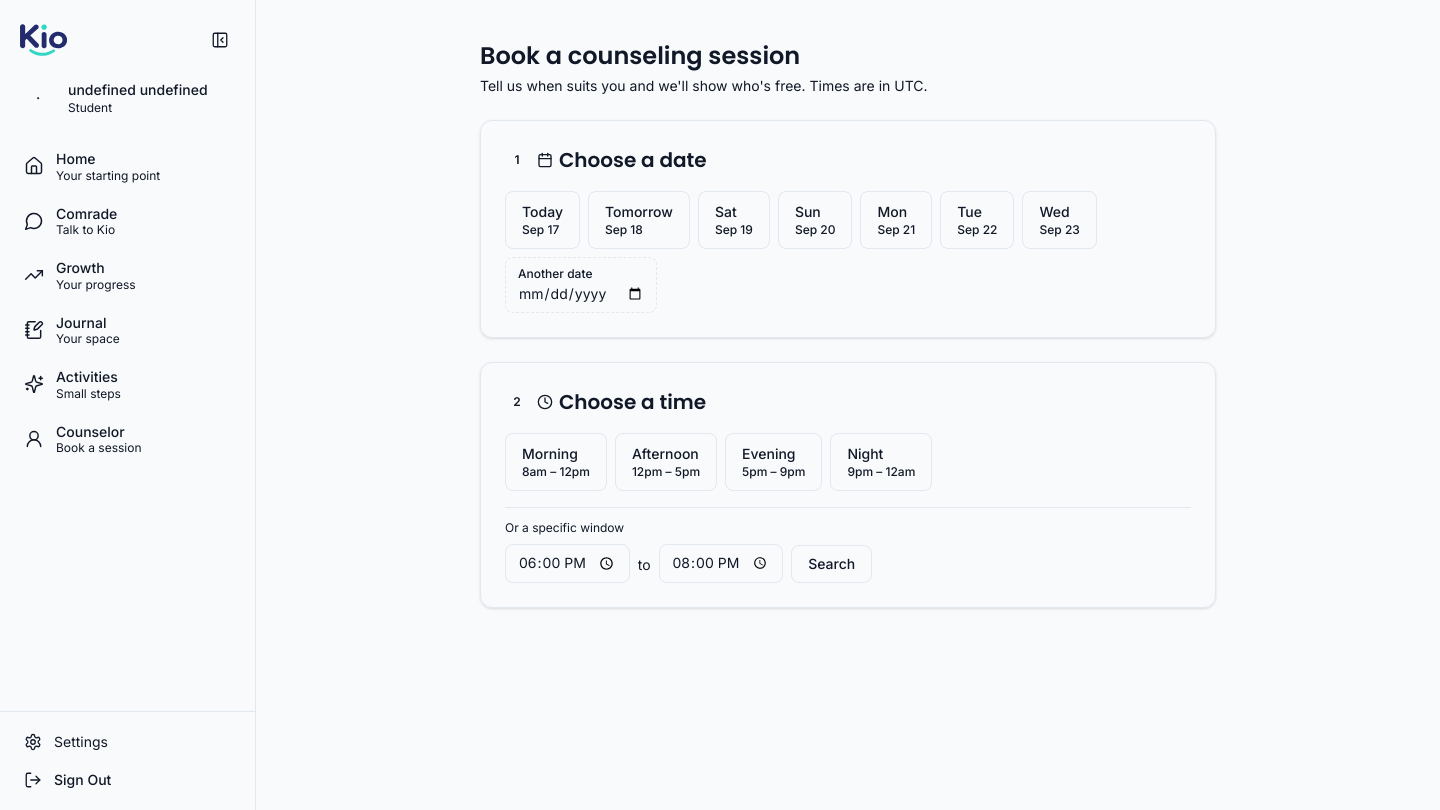
Scenario: BookCounselor › reports a failed search instead of showing nothing
What coordinates should you click on to do the following:
click the button "Evening 5pm – 9pm"
I would click on:
 (774, 462)
Its box is [725,433,822,491].
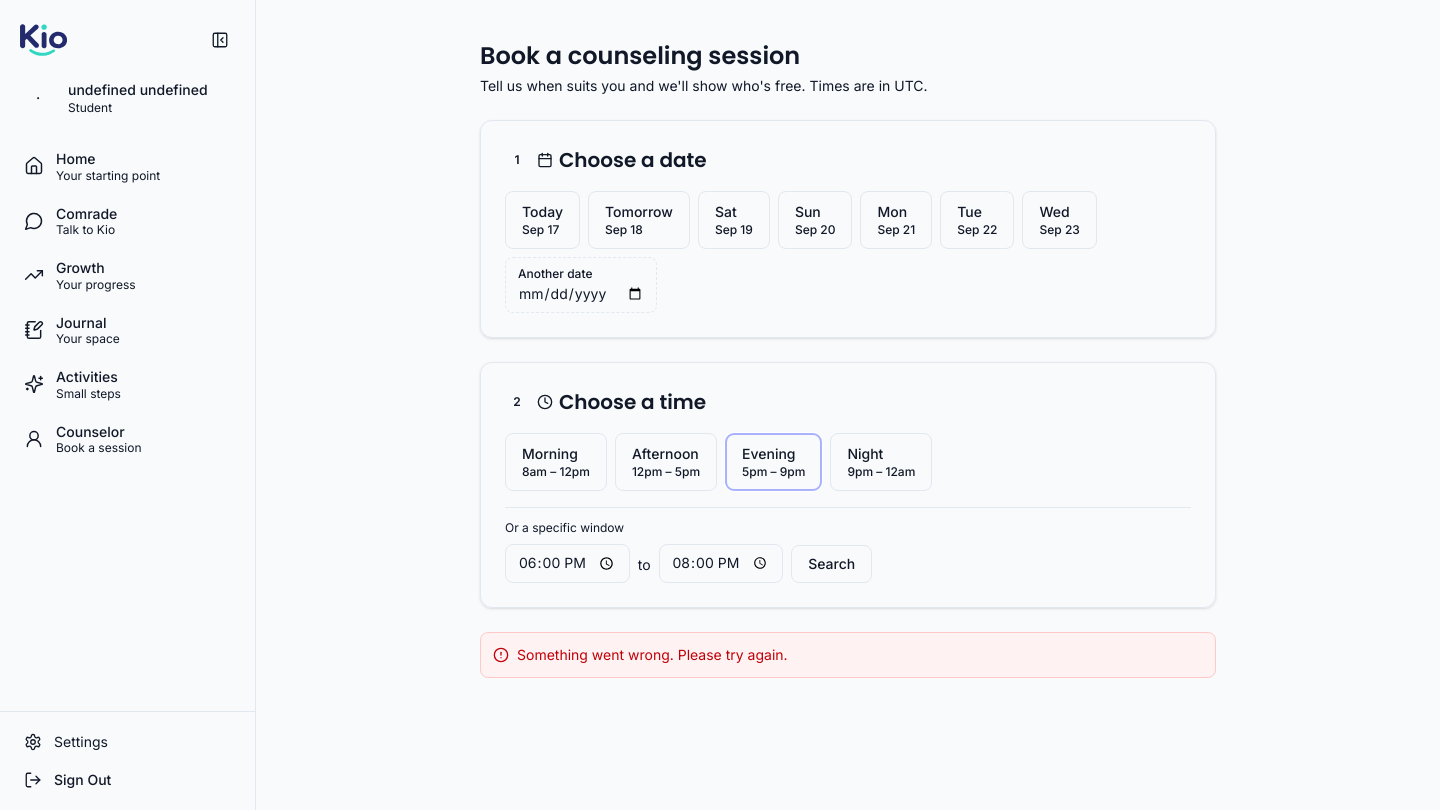
Check: the text "Something went wrong. Please try again." is shown, box [517,645,788,665]
